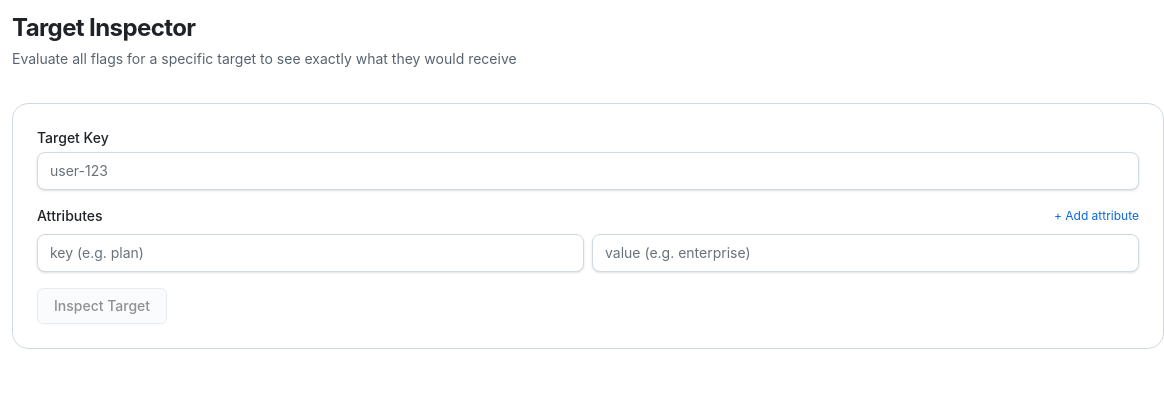
Test: TargetInspectorPage › add attribute button adds a row
The width and height of the screenshot is (1164, 412).
Expected: the number of fields with placeholder "key (e.g. plan)" is 1, [37, 234, 584, 272]
Click the button "+ Add attribute" at (1096, 216), box [1054, 208, 1139, 224]
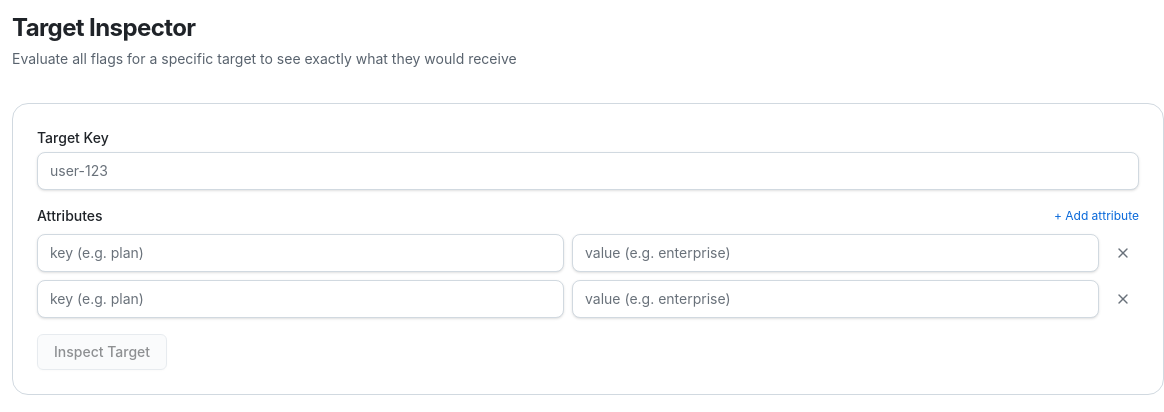
Result: the number of fields with placeholder "key (e.g. plan)" is 2 at [37, 234, 564, 272]; [37, 280, 564, 318]
